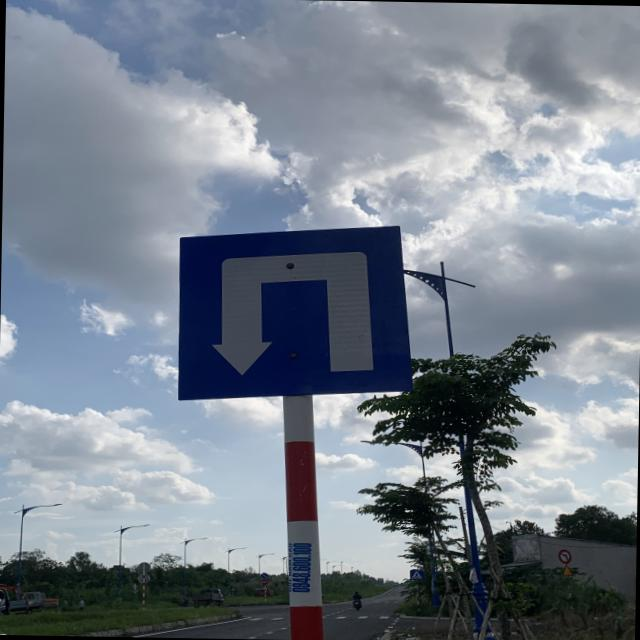Den_Giao_Thong: (181, 220, 419, 407)
